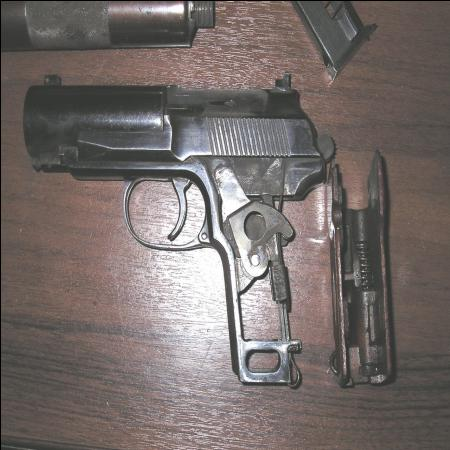Pistol: (21, 72, 327, 383)
